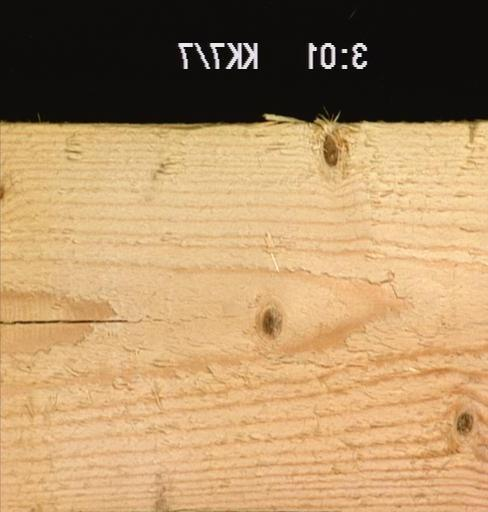dry_knot: (322, 133, 340, 167)
sound_knot: (259, 304, 284, 341), (454, 410, 475, 435)
split: (0, 317, 129, 326)
